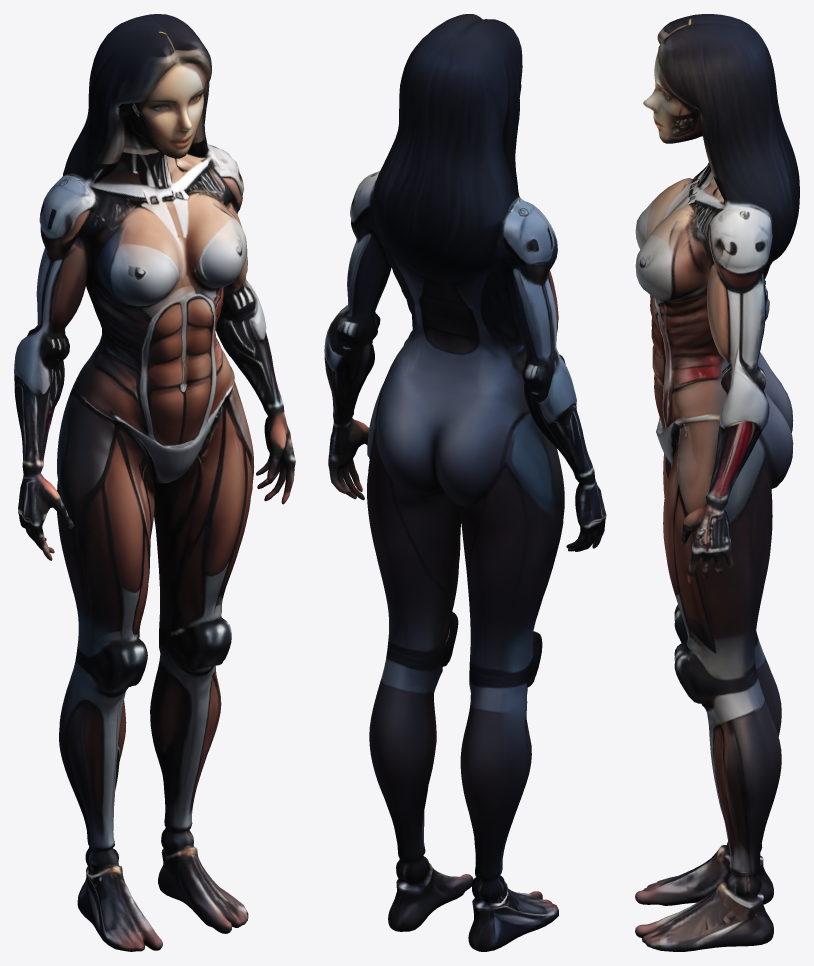
File: base_basic_pbr.fbx
3 renders of one model, left to right at view 1: azimuth 30°, elevation 25°; view 2: azimuth 150°, elevation 25°; view 3: azimuth 270°, elevation 25°, orthographic.
Parts seen in each view (by area): view 1: model; view 2: model; view 3: model.
Boxes of the visible parts, x1,y1,x2,y2 form: model: (14,14,295,951); model: (324,14,606,951); model: (635,14,799,951).
Size of the model in its own units: 59.11 by 189 by 31.36.
1 material, 1 textured.
